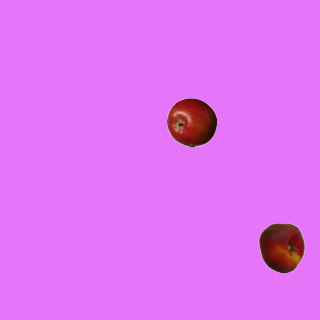Apple Braeburn: (166, 97, 216, 147)
Nectarine Flat: (256, 222, 306, 272)
